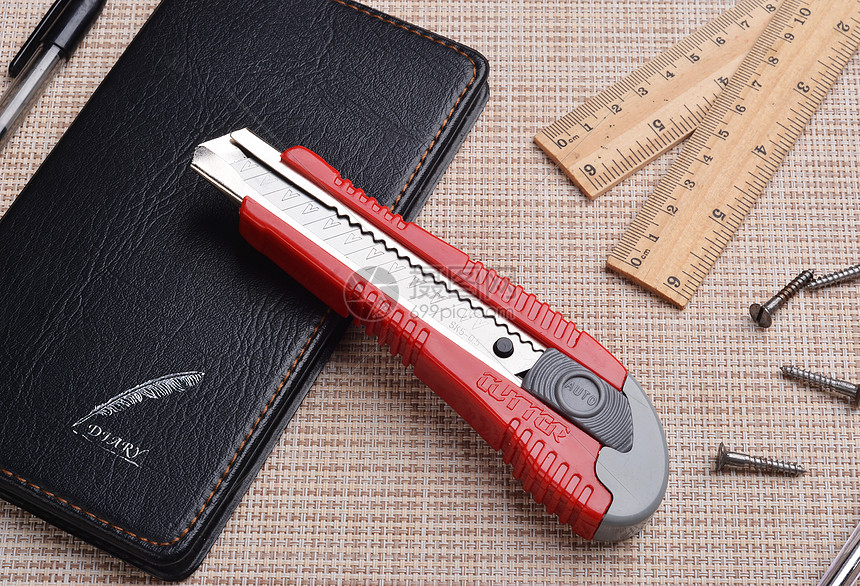cutter: (186, 128, 671, 544)
